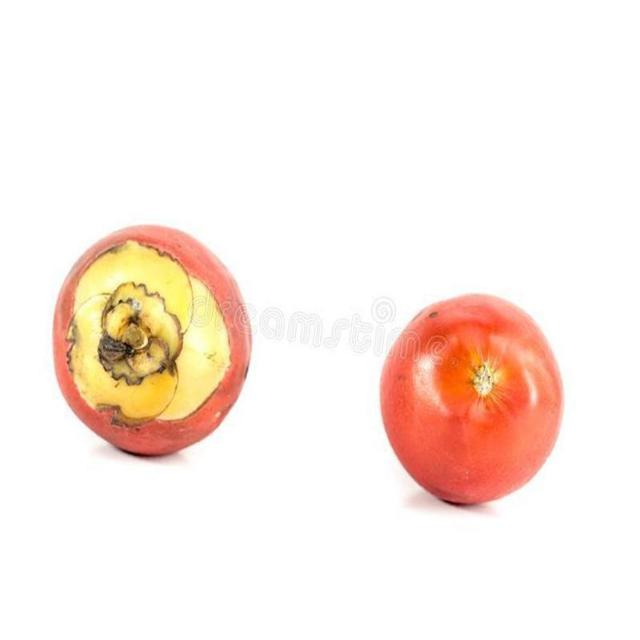good: (53, 224, 254, 459), (378, 294, 566, 507)
